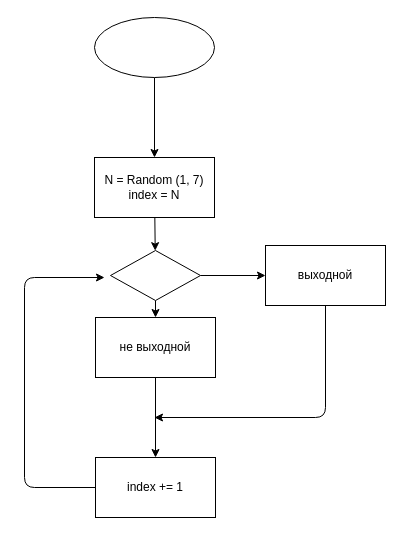
The diagram is 403 pixels wide and 535 high, and some of its shapes have lost their labels. The centre of each missing label's shape, as x and y in pixels:
"index < 6" belongs at point 155,275.
"start" belongs at point 154,47.
